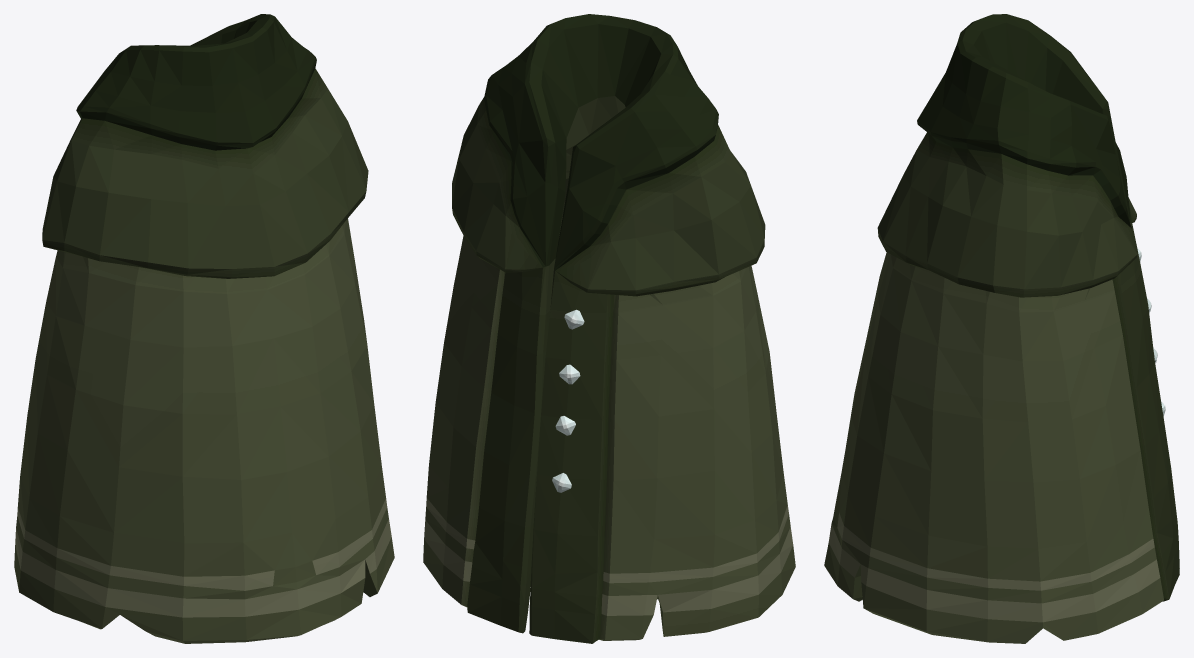
The model's file is CharSkyKid_Wing_AP17UniformCloak.glb.
3 renders of one model, left to right at view 1: azimuth 30°, elevation 25°; view 2: azimuth 150°, elevation 25°; view 3: azimuth 270°, elevation 25°, orthographic. The views are drawn at different scales.
Parts seen in each view (by area): view 1: CharSkyKid_Wing_AP17UniformCloak; view 2: CharSkyKid_Wing_AP17UniformCloak; view 3: CharSkyKid_Wing_AP17UniformCloak.
Boxes of the visible parts, box(x1,y1,x2,y2) form: CharSkyKid_Wing_AP17UniformCloak: box(14, 14, 394, 643); CharSkyKid_Wing_AP17UniformCloak: box(423, 14, 795, 643); CharSkyKid_Wing_AP17UniformCloak: box(824, 14, 1179, 643).
Size of the model in its own units: 5.69 by 8.88 by 5.34.
Materials: 1 (1 with a texture image).
